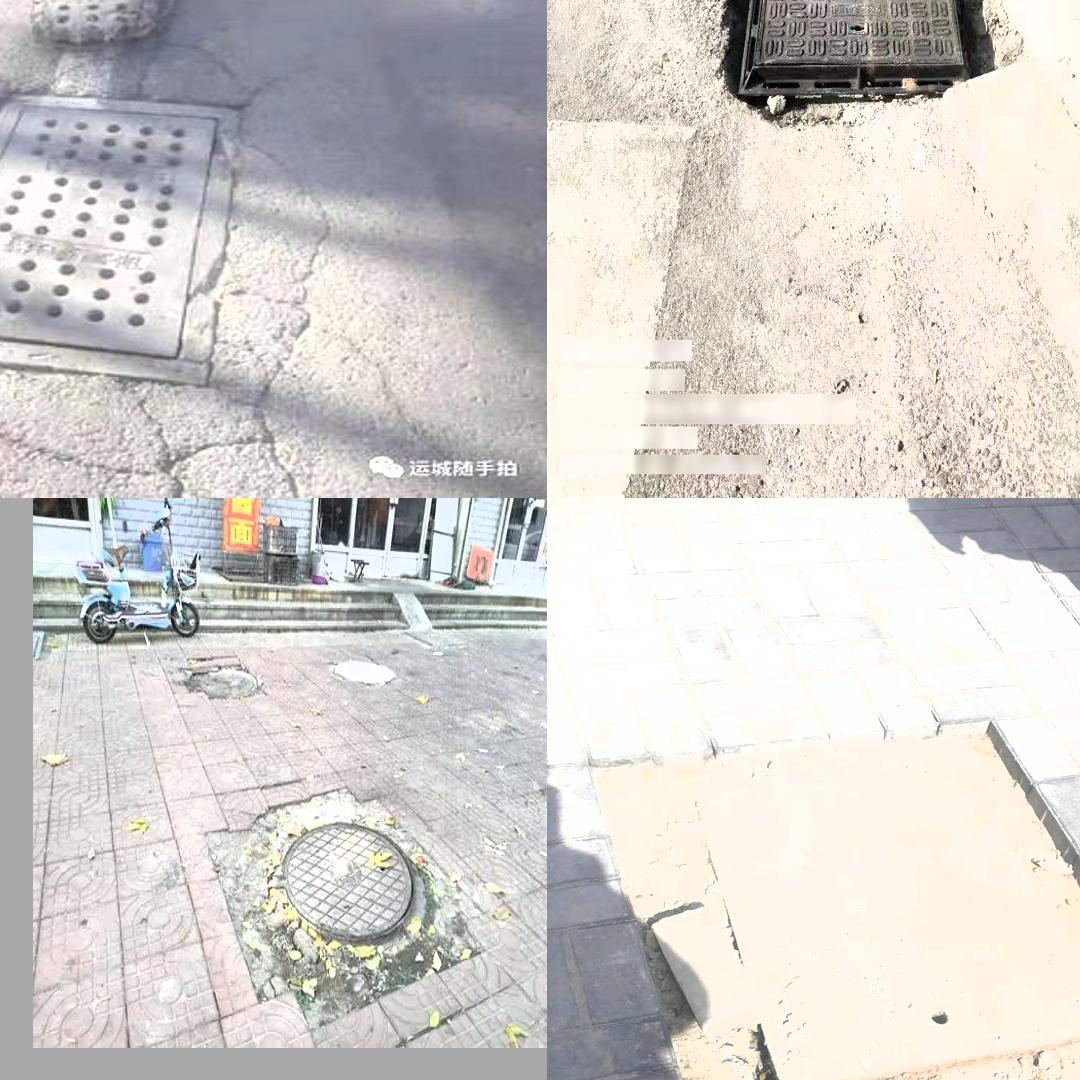circle: (590, 740, 1080, 1080), (0, 58, 349, 466), (217, 786, 463, 1021), (720, 0, 999, 117)
